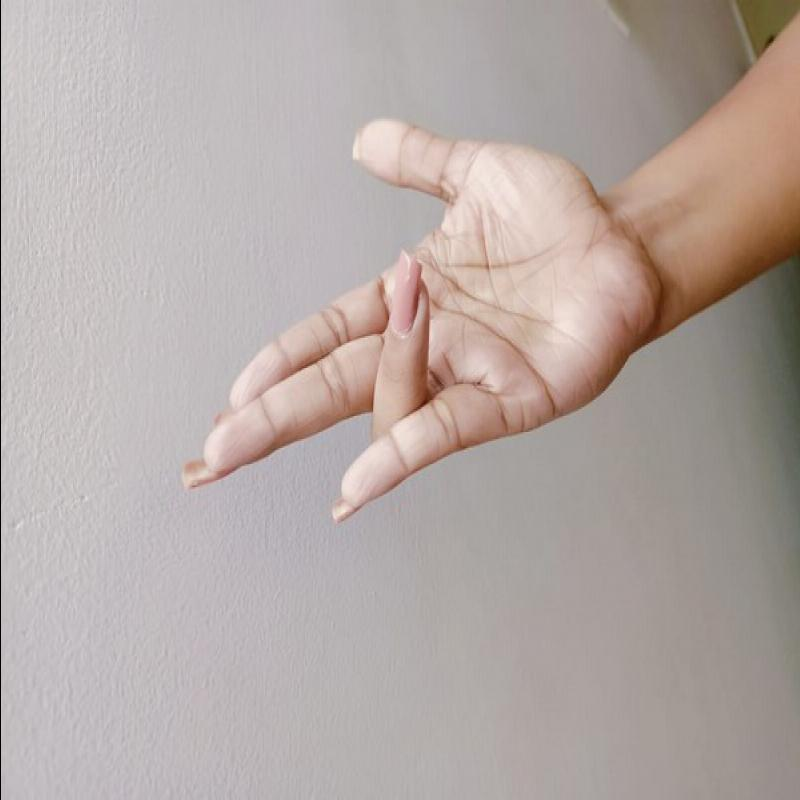Pathaaka: (156, 92, 660, 549)
